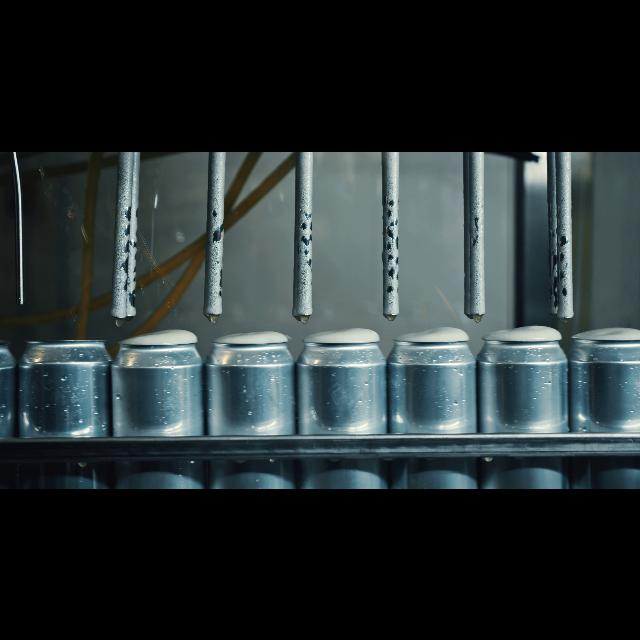empty: (20, 330, 110, 488)
full: (116, 318, 204, 488), (478, 318, 564, 488), (390, 312, 470, 488), (210, 322, 294, 488), (300, 318, 380, 488), (568, 322, 640, 488)
